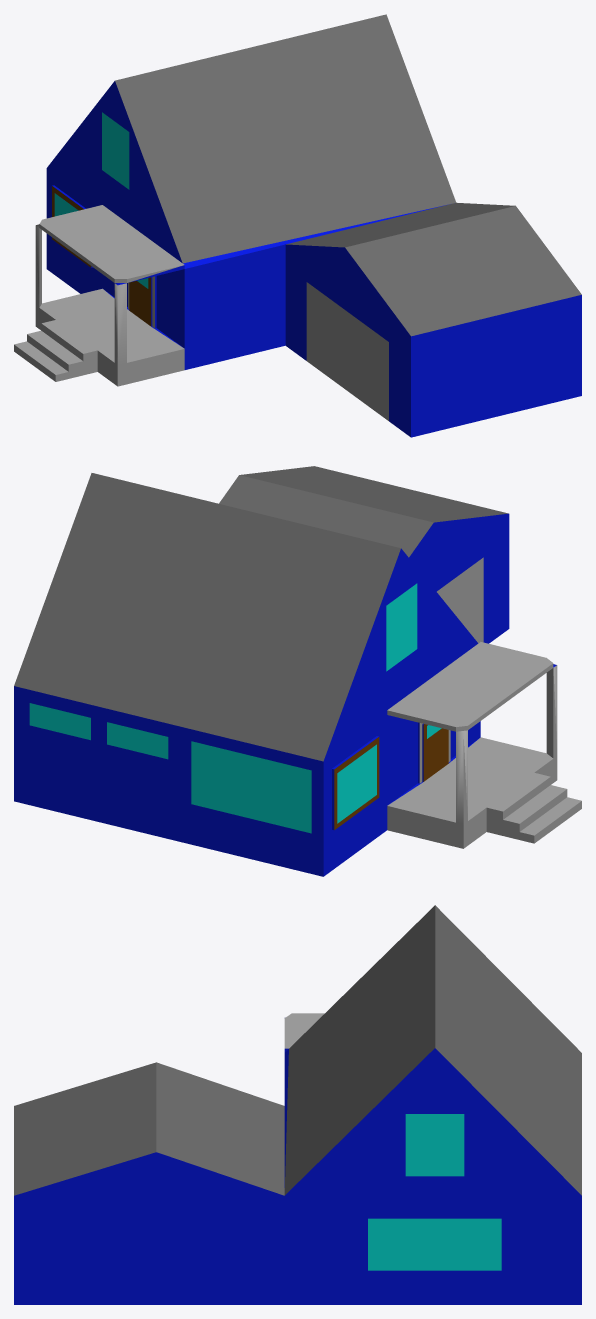
Rendered from House1.fbx.
3 renders of one model, top to bottom at view 1: azimuth 30°, elevation 25°; view 2: azimuth 150°, elevation 25°; view 3: azimuth 270°, elevation 25°, orthographic. The views are drawn at different scales.
Visible parts, largest first — view 1: House.3 for Smokejumpers (1).001; view 2: House.3 for Smokejumpers (1).001; view 3: House.3 for Smokejumpers (1).001.
Part boxes in pixels (x1,y1,x2,y2): House.3 for Smokejumpers (1).001: [14, 14, 581, 437]; House.3 for Smokejumpers (1).001: [14, 466, 581, 876]; House.3 for Smokejumpers (1).001: [14, 905, 581, 1304].
Bounding box in the file's own units: 296 × 177 × 355.
